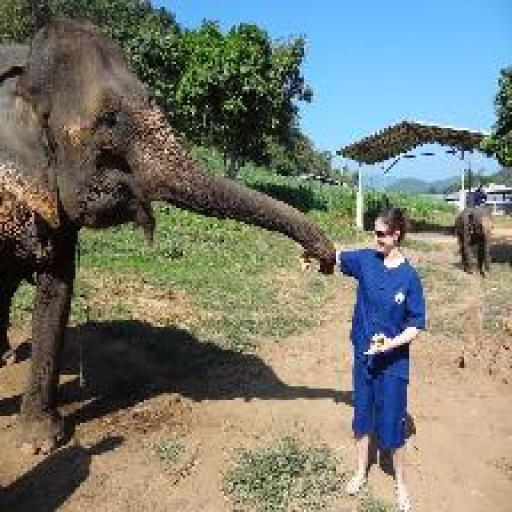Elephant: (0, 14, 336, 452), (452, 204, 494, 276)
